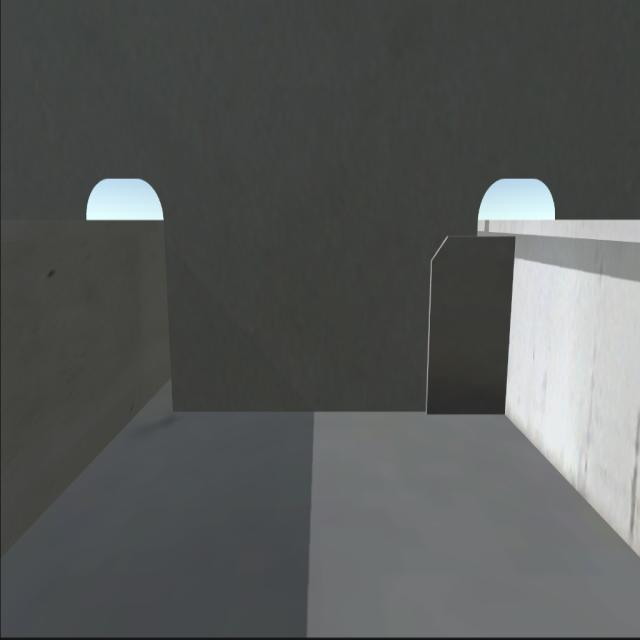fillet_yong_jeop_jang: (171, 402, 509, 422)
longi_yong_jeop_jang: (496, 226, 515, 424)
plate_CP03: (424, 227, 511, 418)
